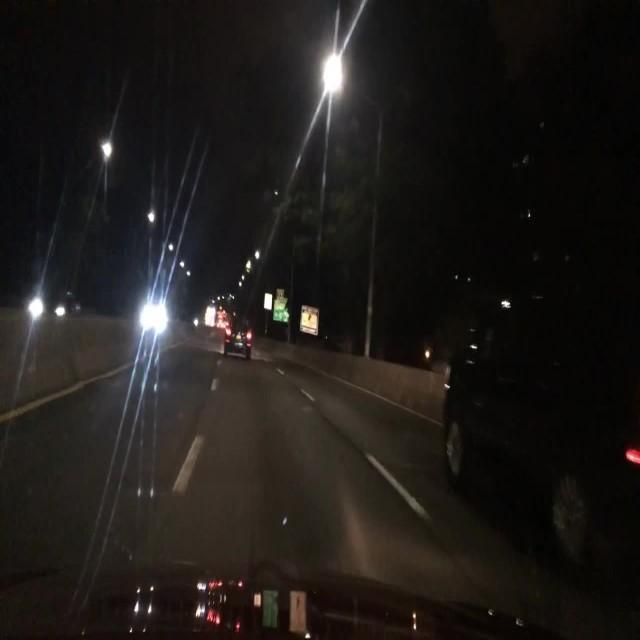normal: (206, 293, 284, 394)
